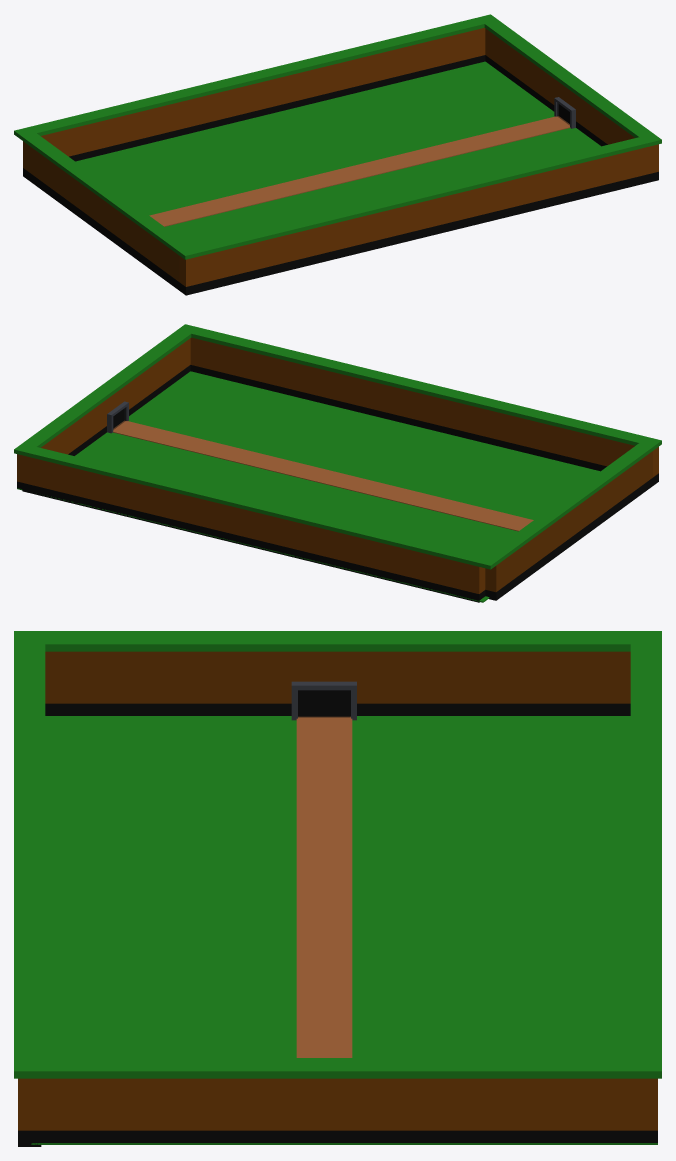
The picture shows the model from 3 angles, top to bottom: view 1: azimuth 30°, elevation 25°; view 2: azimuth 150°, elevation 25°; view 3: azimuth 270°, elevation 25°; orthographic projection. The views are drawn at different scales.
Parts seen in each view (by area): view 1: map; view 2: map; view 3: map.
Part boxes in pixels (bbox=[...]): map: bbox=[14, 14, 661, 295]; map: bbox=[14, 324, 661, 602]; map: bbox=[14, 631, 661, 1146].
Size of the model in its own units: 44460 by 3637 by 27660.
